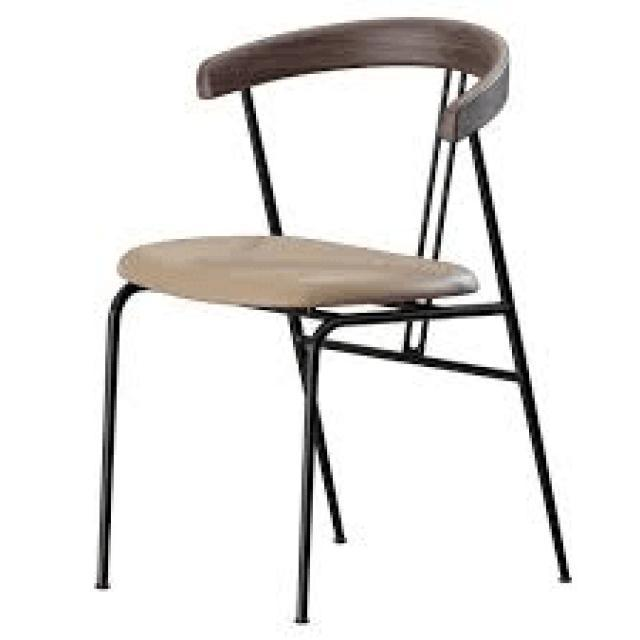chair: (90, 8, 574, 624), (93, 12, 516, 318)
